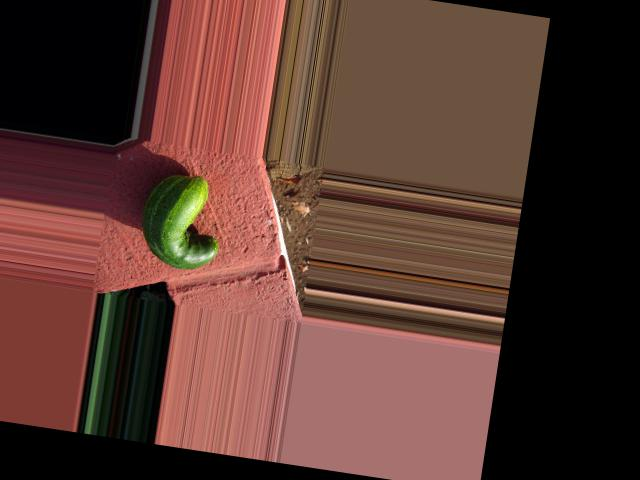cucumber: (136, 168, 230, 273)
